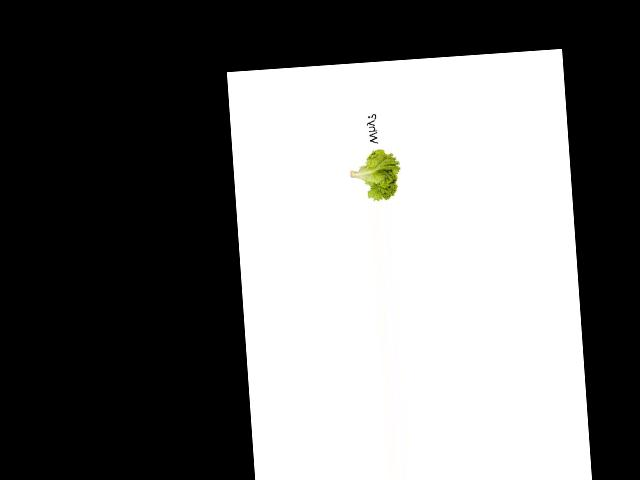lettuce: (347, 143, 402, 204)
